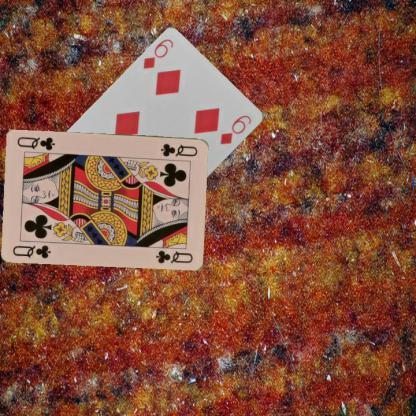6d: (140, 36, 175, 70)
Qc: (158, 140, 200, 158), (10, 242, 52, 260)
